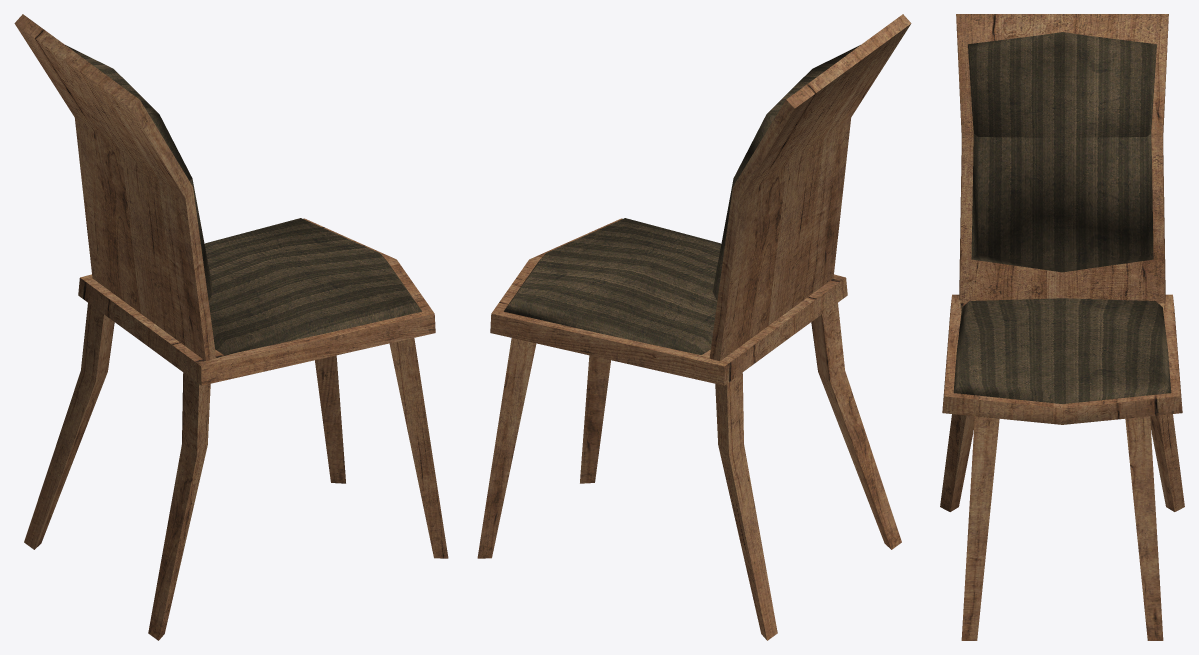
File: Prop_Yz01_lod1.glb
3 renders of one model, left to right at view 1: azimuth 30°, elevation 25°; view 2: azimuth 150°, elevation 25°; view 3: azimuth 270°, elevation 25°, orthographic. The views are drawn at different scales.
Parts seen in each view (by area): view 1: xiutz_yz_01_lod1; view 2: xiutz_yz_01_lod1; view 3: xiutz_yz_01_lod1.
Boxes of the visible parts, x1,y1,x2,y2 form: xiutz_yz_01_lod1: [14, 14, 448, 640]; xiutz_yz_01_lod1: [477, 14, 911, 640]; xiutz_yz_01_lod1: [940, 14, 1184, 640].
Size of the model in its own units: 1.2 by 1.9 by 0.8644.
1 material, 1 textured.
